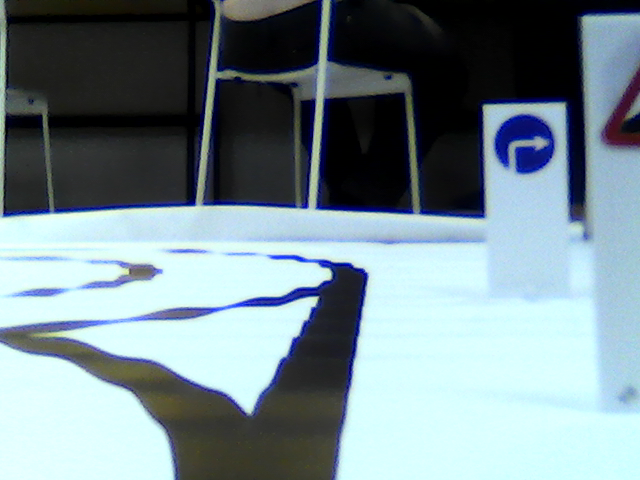Right: (496, 112, 553, 177)
